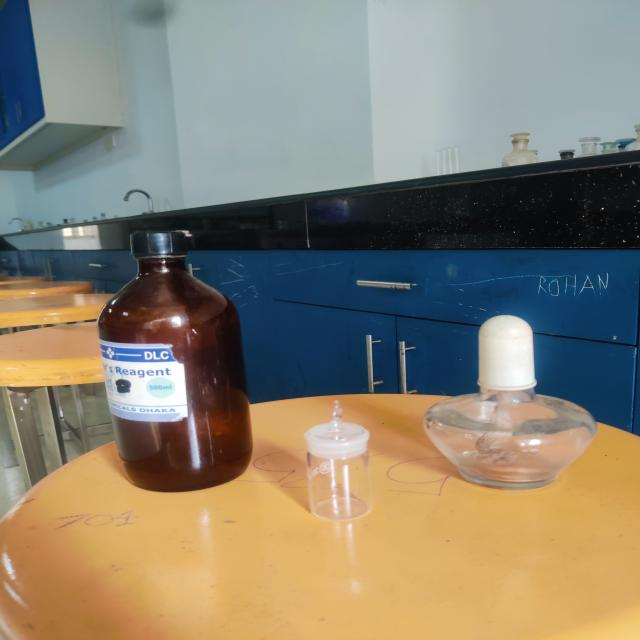Nessler_Reagent_Bottle: (83, 224, 274, 499)
Spirit_Lamp: (410, 304, 606, 504)
Weighing_Bottle: (292, 398, 388, 530)
